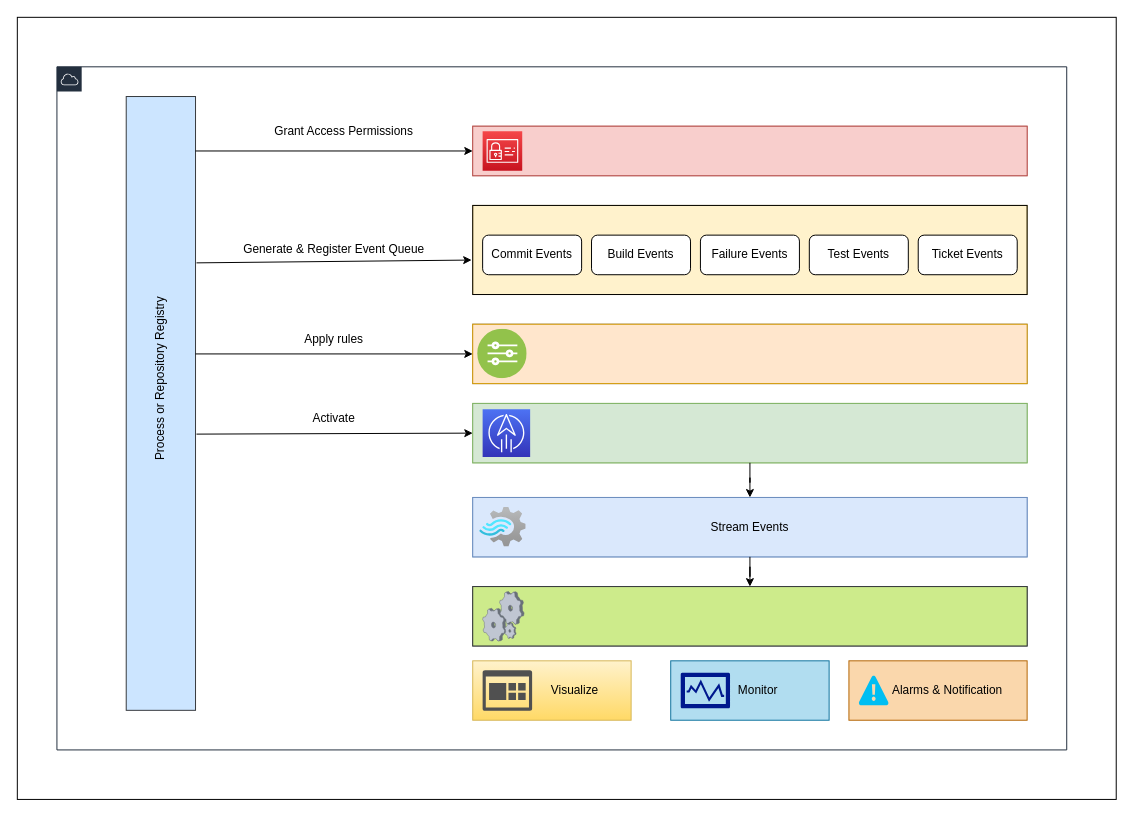
Image size: 1134x817. Some labels were removed from this diagram. The shapes that lost their labels are listed below. From the top down, each one's box as (x1, y1, x2, y2) in pixels, then its label:
(472, 125, 1027, 176): Generate identity and Access Management
(472, 204, 1027, 295): Event Queues
(472, 323, 1027, 384): Apply Custom Rules
(472, 402, 1027, 463): Activate Listeners
(472, 586, 1027, 646): Build, Analyze, process and Store/index events and data
